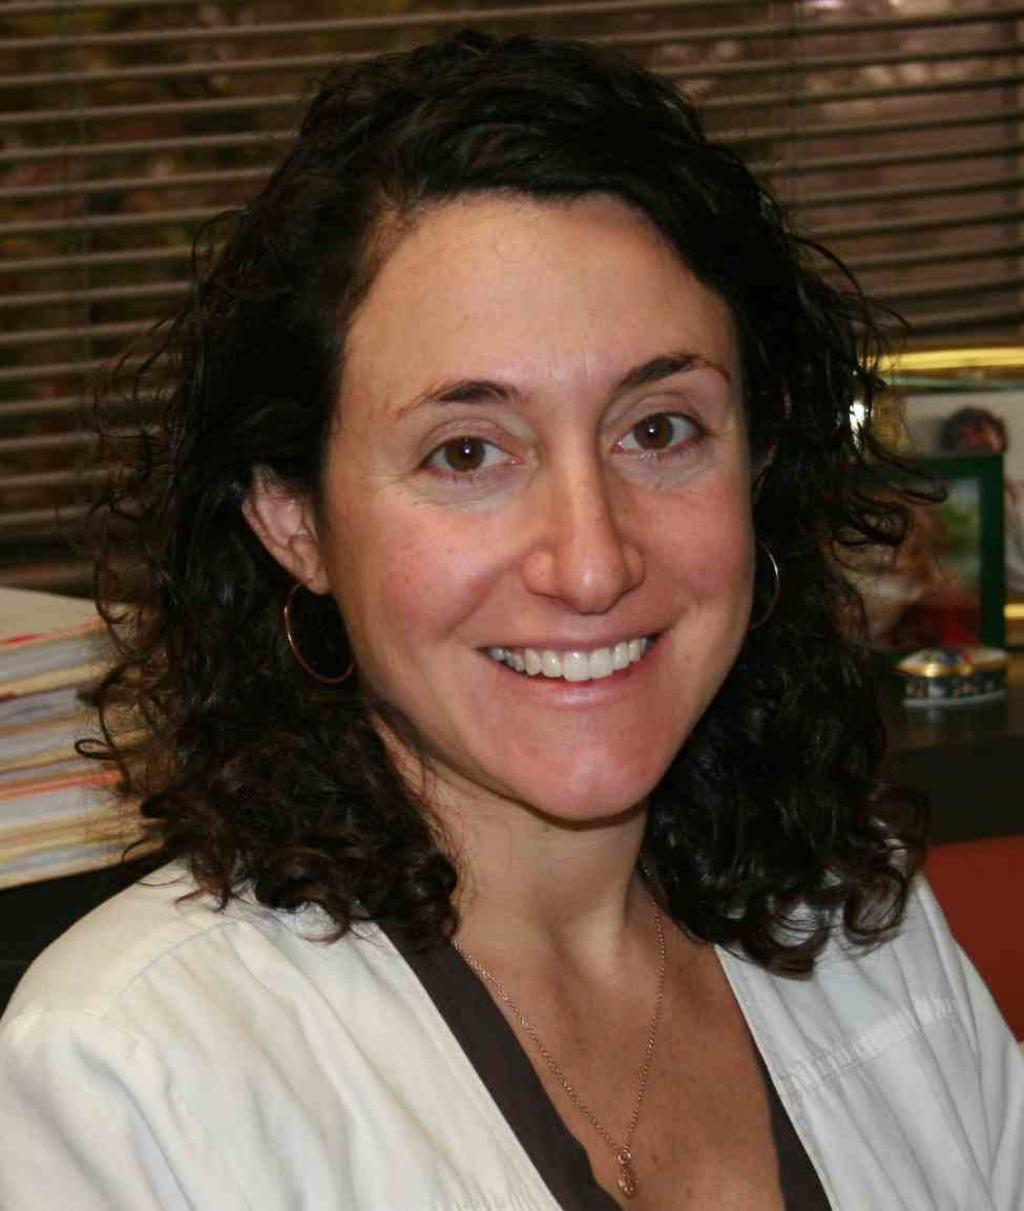face: (327, 207, 760, 820)
